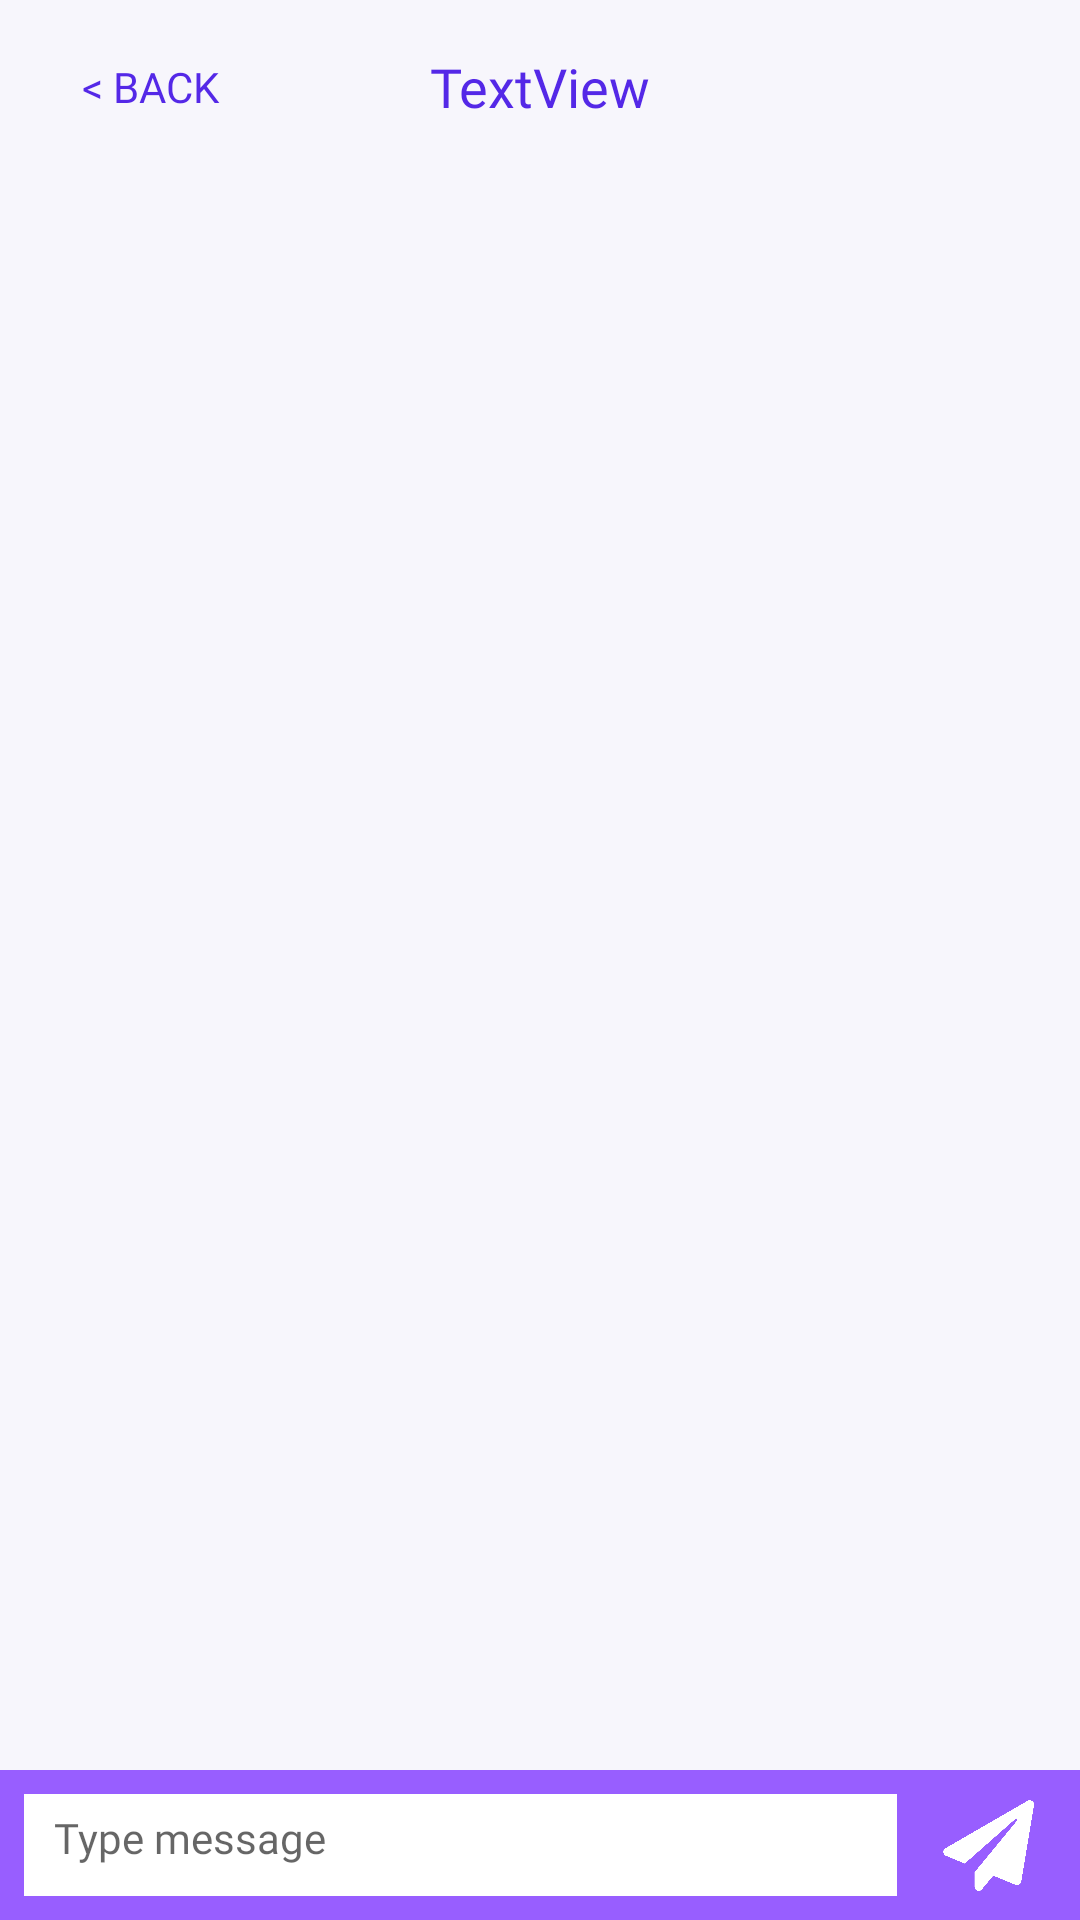

Icon bounding boxes for this 1080*1920 phone screenshot, format (left=x1, top=y1, right=x2, bottom=y2):
Send button: (left=943, top=1800, right=1034, bottom=1891)
